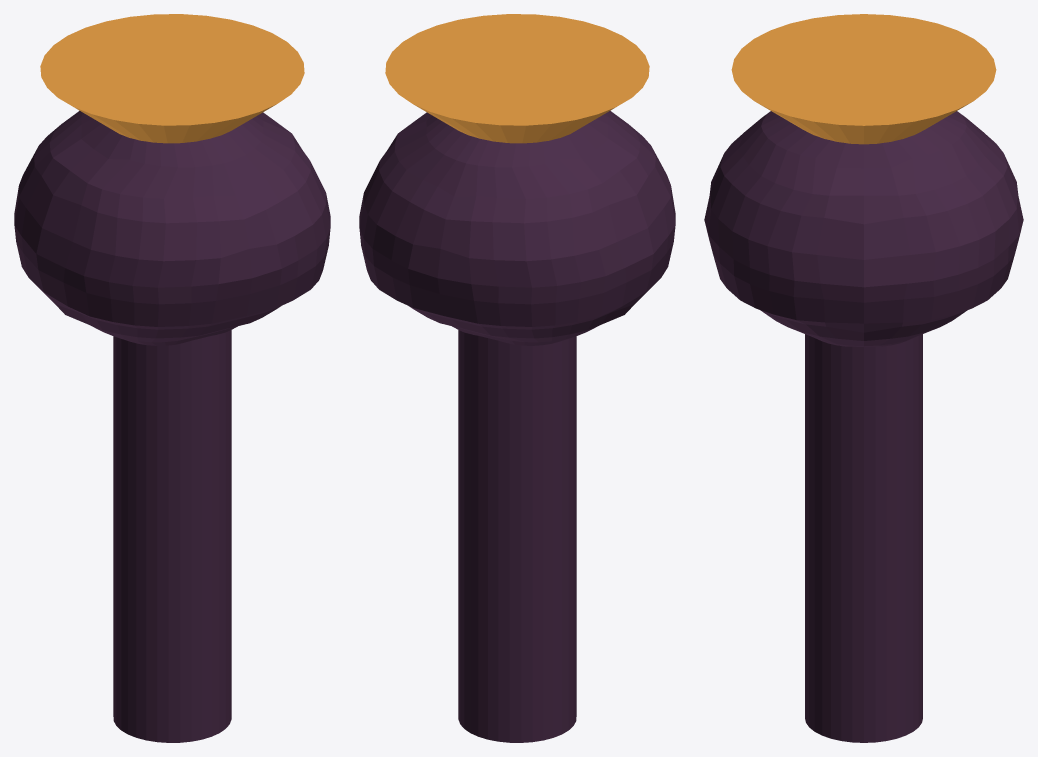
File: CandleHolder_Prot_0.2_CenterPiece.fbx
3 views of the same model, side by side, from view 1: azimuth 30°, elevation 25°; view 2: azimuth 150°, elevation 25°; view 3: azimuth 270°, elevation 25° (orthographic).
Parts seen in each view (by area): view 1: Sphere.024, Cylinder.038, Base.021; view 2: Sphere.024, Cylinder.038, Base.021; view 3: Sphere.024, Cylinder.038, Base.021.
Part boxes in pixels (bbox=[...]): Sphere.024: bbox=[14, 110, 330, 345]; Cylinder.038: bbox=[113, 330, 231, 742]; Base.021: bbox=[40, 14, 304, 143]; Sphere.024: bbox=[359, 110, 675, 345]; Cylinder.038: bbox=[458, 330, 576, 742]; Base.021: bbox=[385, 14, 649, 143]; Sphere.024: bbox=[704, 111, 1023, 346]; Cylinder.038: bbox=[805, 334, 922, 742]; Base.021: bbox=[731, 14, 996, 144].
Bounding box in the file's own units: 41.48 × 94.34 × 42.13.
